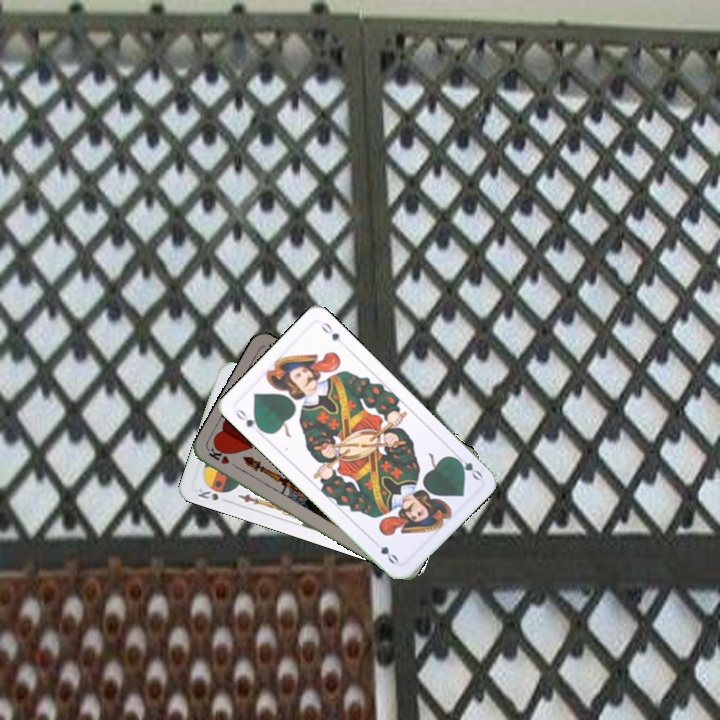GO: (449, 450, 485, 483), (231, 405, 266, 434)
HK: (205, 445, 242, 472)
SK: (193, 484, 232, 505)
